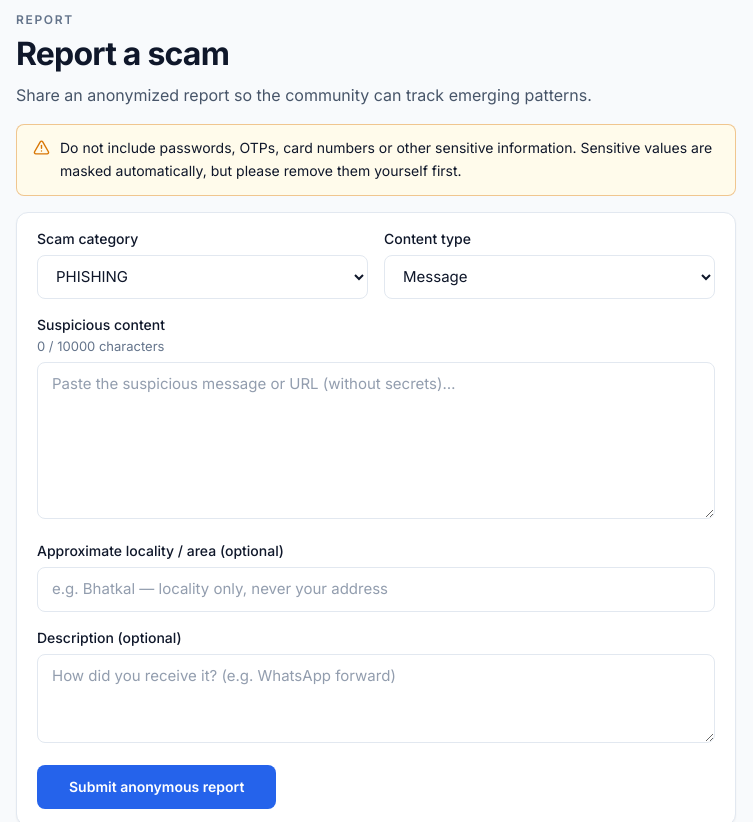
Scenario: report flow › server error message is surfaced
This screenshot has width=753, height=822.
In the text box labelled "Suspicious content": (376, 440) [37,362,715,519], type "spam spam"
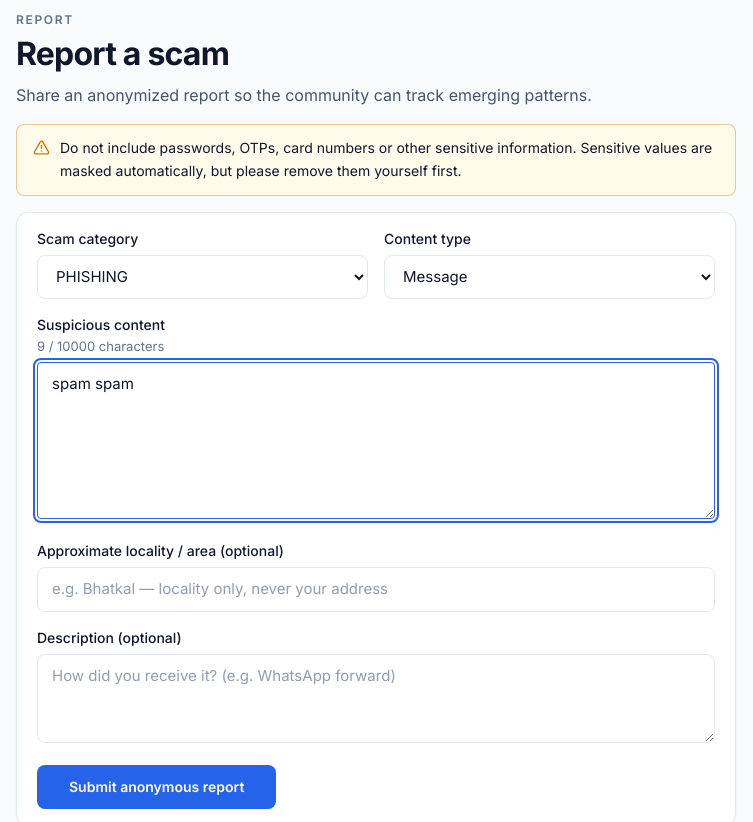
Click the button "Submit anonymous report": (157, 787) [37,765,276,809]
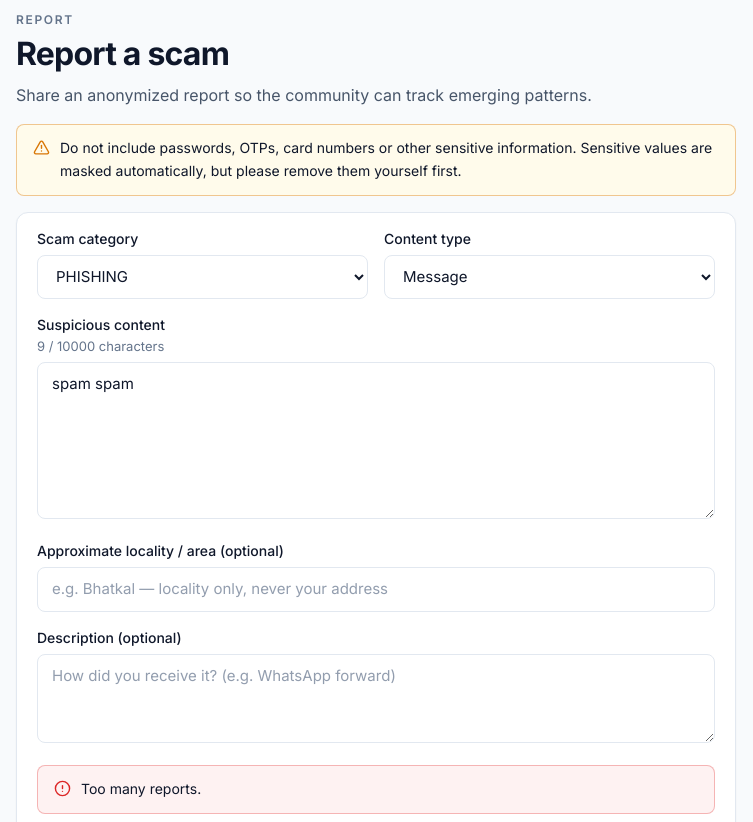
Now the text "Too many reports." is shown, box [81,778,201,801]
